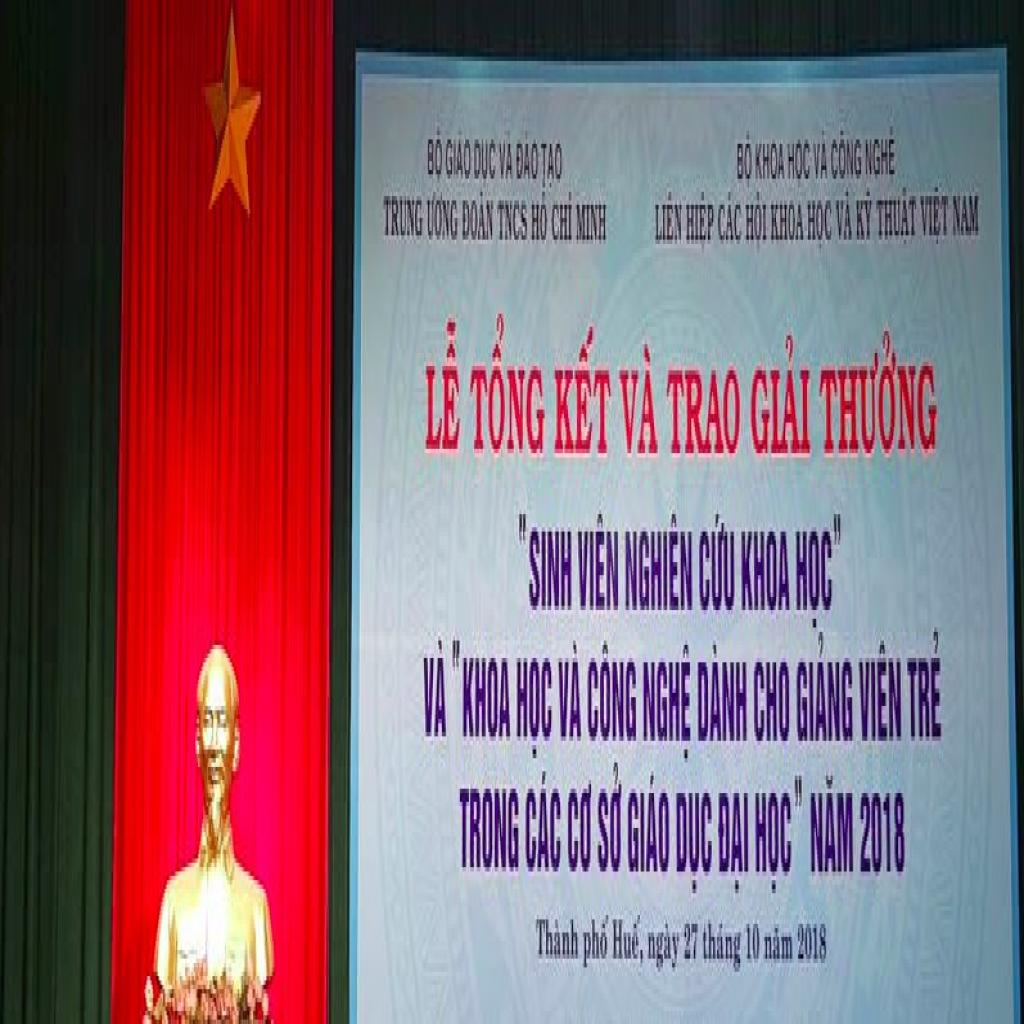text: (818, 322, 940, 466), (469, 310, 546, 466), (552, 322, 618, 462), (748, 327, 813, 462), (796, 623, 854, 750), (664, 370, 743, 462), (451, 632, 513, 745), (626, 514, 695, 614), (795, 506, 844, 640), (754, 771, 804, 898), (518, 510, 574, 623), (642, 645, 692, 767), (458, 784, 520, 880), (587, 636, 639, 750), (696, 640, 749, 750), (424, 318, 463, 462), (627, 763, 672, 880), (808, 771, 856, 880), (858, 640, 903, 750), (618, 340, 660, 457), (740, 527, 793, 619), (578, 510, 621, 619), (514, 658, 555, 767), (674, 788, 714, 898), (524, 771, 564, 880), (698, 505, 736, 619), (906, 628, 943, 745), (860, 789, 907, 880), (596, 754, 625, 880), (718, 789, 750, 902), (753, 658, 791, 749), (876, 183, 919, 257), (556, 641, 584, 745), (423, 632, 448, 745), (701, 915, 744, 980), (533, 915, 581, 967), (646, 911, 682, 980), (568, 784, 593, 880), (863, 122, 897, 192), (920, 183, 952, 257), (612, 911, 646, 976), (686, 192, 717, 261), (425, 192, 460, 248), (462, 187, 496, 244), (384, 196, 424, 244), (654, 188, 685, 248), (832, 126, 864, 183), (805, 196, 834, 257), (582, 915, 610, 976), (446, 126, 473, 188), (771, 200, 805, 248), (515, 126, 541, 188), (746, 187, 768, 257), (498, 200, 530, 248), (717, 192, 744, 248), (786, 140, 812, 196), (952, 192, 980, 244), (756, 140, 786, 188), (552, 183, 574, 248), (576, 205, 608, 248), (763, 924, 794, 967), (735, 126, 754, 196), (474, 135, 497, 192), (531, 179, 550, 248), (540, 139, 564, 192), (835, 188, 855, 248), (856, 188, 875, 248), (428, 122, 444, 192), (498, 130, 516, 192), (813, 126, 830, 183), (745, 920, 762, 968), (684, 920, 700, 968)
